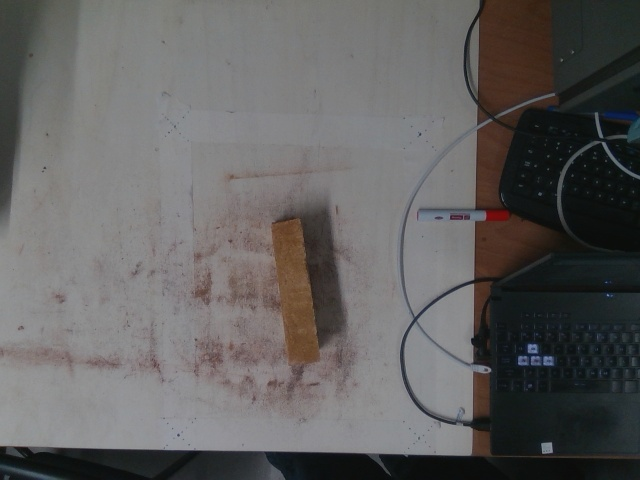brick-side: (270, 222, 320, 365)
